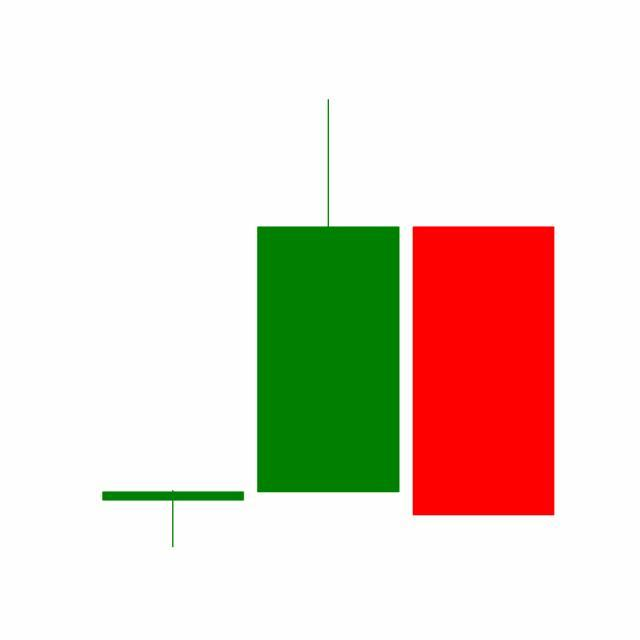Marubozu: (406, 224, 562, 519)
